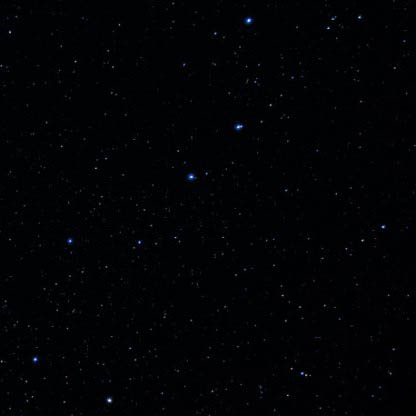Ursa Major: (125, 230, 152, 256), (227, 118, 251, 137), (103, 386, 122, 408), (63, 230, 79, 254), (180, 165, 198, 186), (237, 12, 261, 27), (32, 347, 48, 369)
